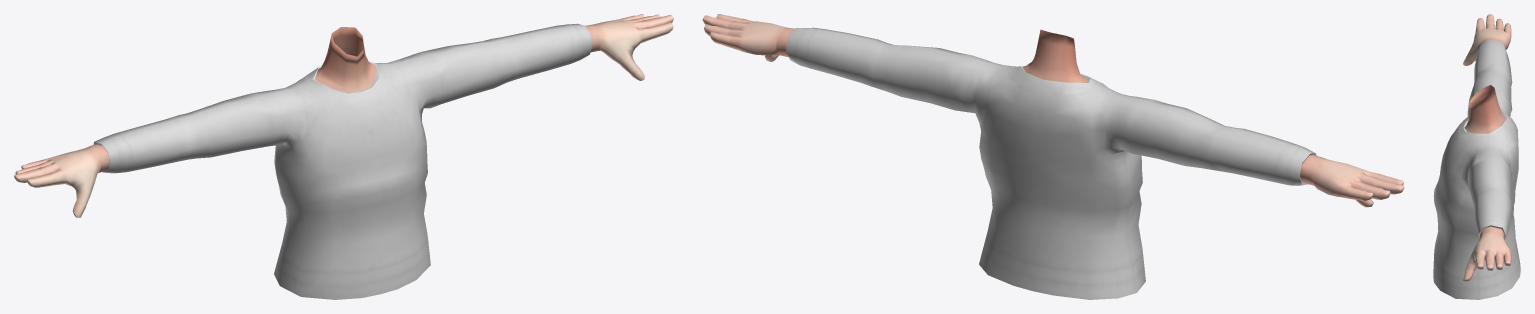
The model's file is tr0720_00_upb00.gltf.
The picture shows the model from 3 angles, left to right: view 1: azimuth 30°, elevation 25°; view 2: azimuth 150°, elevation 25°; view 3: azimuth 270°, elevation 25°; orthographic projection. The views are drawn at different scales.
Parts seen in each view (by area): view 1: upb00_upperbody_mesh_shape:upperbody00, upb00_upperskin_mesh_shape:upperbody00_skin; view 2: upb00_upperbody_mesh_shape:upperbody00, upb00_upperskin_mesh_shape:upperbody00_skin; view 3: upb00_upperbody_mesh_shape:upperbody00, upb00_upperskin_mesh_shape:upperbody00_skin.
Boxes of the visible parts, <box> form: upb00_upperbody_mesh_shape:upperbody00: <box>93,23,592,299</box>; upb00_upperskin_mesh_shape:upperbody00_skin: <box>14,14,673,217</box>; upb00_upperbody_mesh_shape:upperbody00: <box>786,27,1316,299</box>; upb00_upperskin_mesh_shape:upperbody00_skin: <box>702,14,1404,207</box>; upb00_upperbody_mesh_shape:upperbody00: <box>1433,39,1520,299</box>; upb00_upperskin_mesh_shape:upperbody00_skin: <box>1463,14,1511,281</box>.
Size of what is drawn, in the model's own units: 1.63 by 0.567 by 0.2393.
2 materials, 2 textured.
